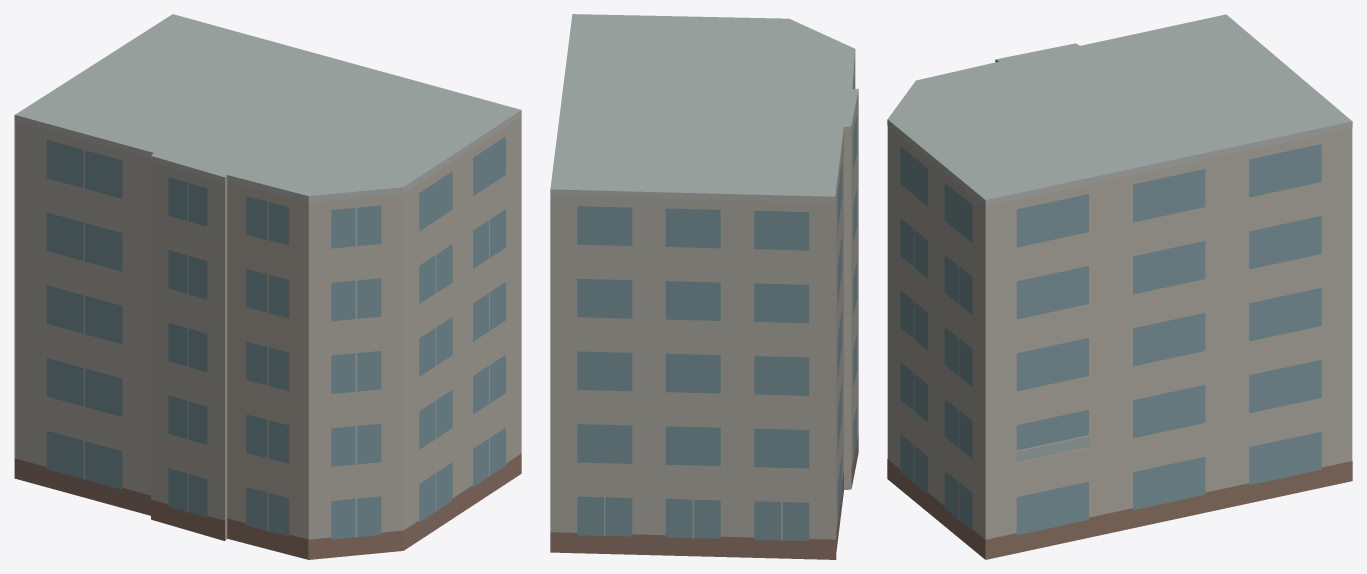
File: survey-upis-32840693.glb
The picture shows the model from 3 angles, left to right: view 1: azimuth 30°, elevation 25°; view 2: azimuth 150°, elevation 25°; view 3: azimuth 270°, elevation 25°; orthographic projection.
Visible parts, largest first — view 1: survey-upis-32840693.tmp; view 2: survey-upis-32840693.tmp; view 3: survey-upis-32840693.tmp.
Part boxes in pixels (box(x1,y1,x2,y2)): survey-upis-32840693.tmp: box(14, 14, 521, 559); survey-upis-32840693.tmp: box(550, 14, 858, 559); survey-upis-32840693.tmp: box(887, 14, 1352, 559).
Bounding box in the file's own units: 15.43 × 13.89 × 16.28.
